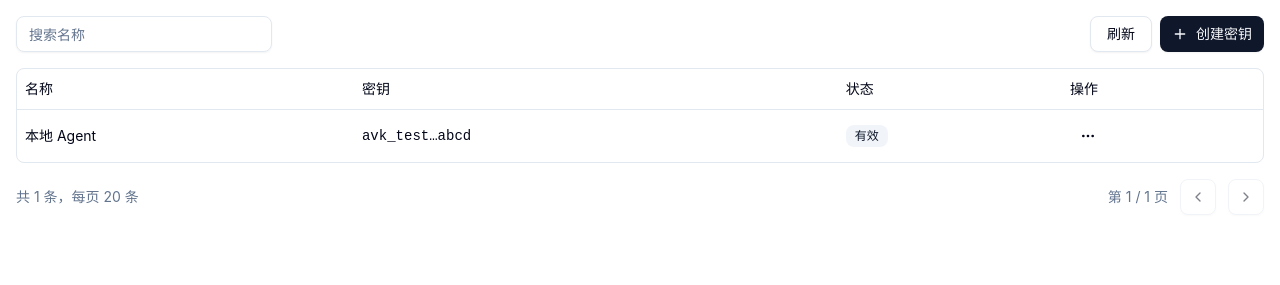
Test: 精简密钥列表保留治理操作，不加载资源或用量（admin=false）
Check: the text "本地 Agent" is shown, box [25,126,96,144]
Click the button named "管理 本地 Agent": (1088,136) [1070,118,1106,154]
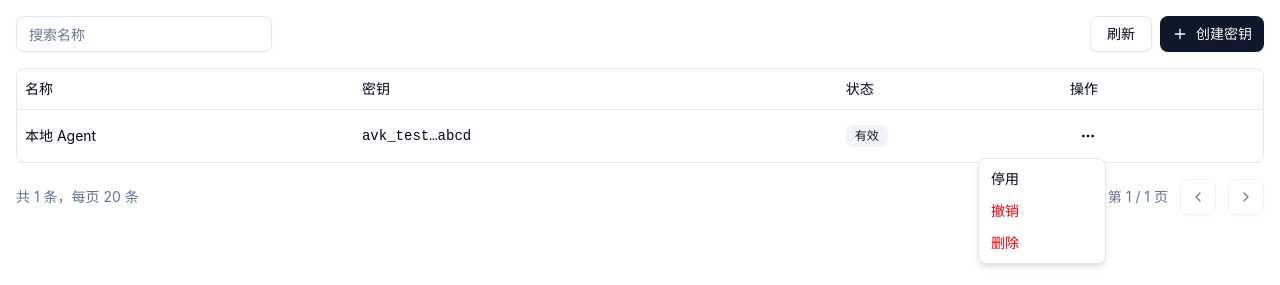
Check: the menu item "停用" is shown, box [991,170,1019,187]
Check: the menu item "撤销" is shown, box [991,202,1019,219]
